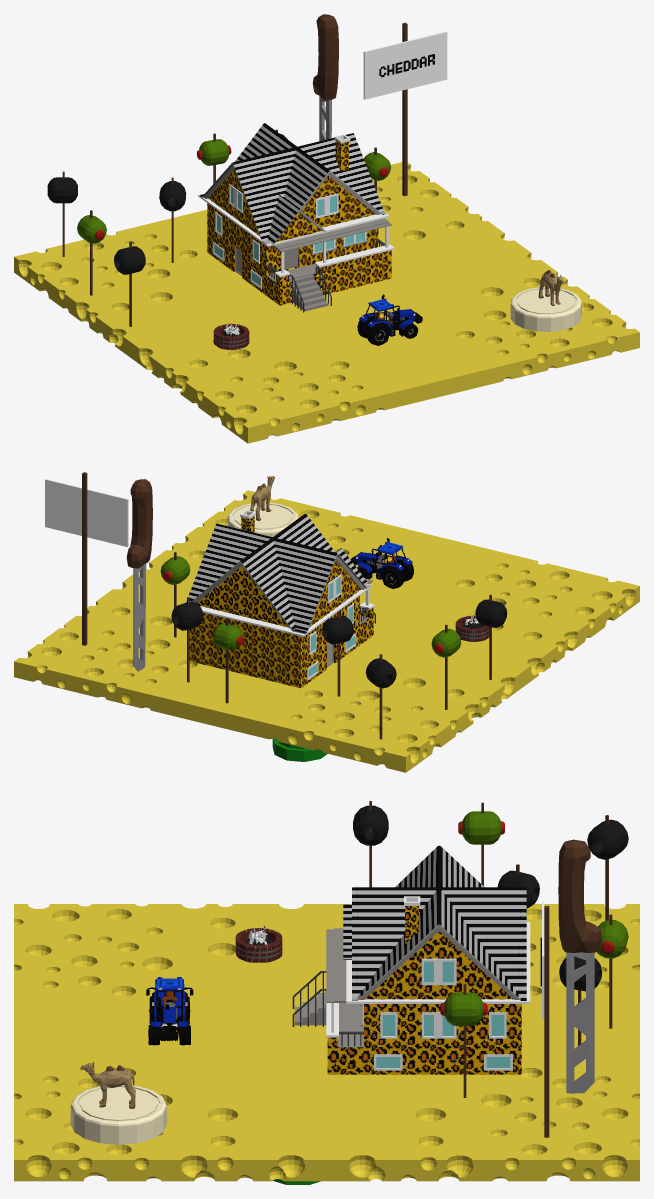
3 renders of one model, top to bottom at view 1: azimuth 30°, elevation 25°; view 2: azimuth 150°, elevation 25°; view 3: azimuth 270°, elevation 25°, orthographic. The views are drawn at different scales.
Visible parts, largest first — view 1: Cube.022, Cube.637, Cube.023, Cylinder.016, Cube.024, VEHICLES_TRACTOR, Sphere.017, Sphere.016, OBJRANDOM_CAMPFIRE, Sphere.020, Sphere.018, Sphere.022 (+1 smaller); view 2: Cube.022, Cube.637, Cube.023, Cube.024, VEHICLES_TRACTOR, Cylinder.016, Sphere.020, Sphere.016, Sphere.022, Sphere.017, Sphere.021, Sphere.018 (+4 smaller); view 3: Cube.022, Cube.637, Cube.024, Cylinder.016, VEHICLES_TRACTOR, Cube.023, Sphere.019, Sphere.016, OBJRANDOM_CAMPFIRE, Sphere.018, Sphere.017, Sphere.022 (+3 smaller).
Boxes of the visible parts, bbox=[...] form: Cube.022: bbox=[14, 162, 639, 443]; Cube.637: bbox=[198, 123, 394, 312]; Cube.023: bbox=[363, 22, 447, 196]; Cylinder.016: bbox=[510, 287, 581, 331]; Cube.024: bbox=[312, 14, 338, 141]; VEHICLES_TRACTOR: bbox=[357, 294, 422, 345]; Sphere.017: bbox=[114, 241, 145, 326]; Sphere.016: bbox=[47, 171, 77, 256]; OBJRANDOM_CAMPFIRE: bbox=[213, 322, 249, 349]; Sphere.020: bbox=[159, 177, 186, 262]; Sphere.018: bbox=[77, 210, 106, 295]; Sphere.022: bbox=[196, 133, 231, 183]; Cube.022: bbox=[14, 490, 639, 772]; Cube.637: bbox=[185, 510, 375, 688]; Cube.023: bbox=[45, 472, 128, 645]; Cube.024: bbox=[126, 479, 152, 671]; VEHICLES_TRACTOR: bbox=[350, 538, 413, 588]; Cylinder.016: bbox=[227, 502, 298, 537]; Sphere.020: bbox=[322, 611, 353, 696]; Sphere.016: bbox=[365, 654, 396, 739]; Sphere.022: bbox=[212, 618, 243, 703]; Sphere.017: bbox=[475, 594, 507, 679]; Sphere.021: bbox=[171, 597, 203, 682]; Sphere.018: bbox=[431, 624, 461, 709]; Cube.022: bbox=[14, 904, 639, 1181]; Cube.637: bbox=[292, 845, 530, 1074]; Cube.024: bbox=[558, 839, 602, 1093]; Cylinder.016: bbox=[70, 1085, 166, 1144]; VEHICLES_TRACTOR: bbox=[146, 977, 193, 1045]; Cube.023: bbox=[540, 902, 549, 1137]; Sphere.019: bbox=[440, 984, 487, 1097]; Sphere.016: bbox=[587, 815, 628, 920]; OBJRANDOM_CAMPFIRE: bbox=[235, 920, 282, 962]; Sphere.018: bbox=[458, 802, 504, 885]; Sphere.017: bbox=[353, 801, 388, 887]; Sphere.022: bbox=[597, 914, 628, 1028].
Bounding box in the file's own units: 3917 × 2590 × 4000.
Materials: 34 (4 with a texture image).
